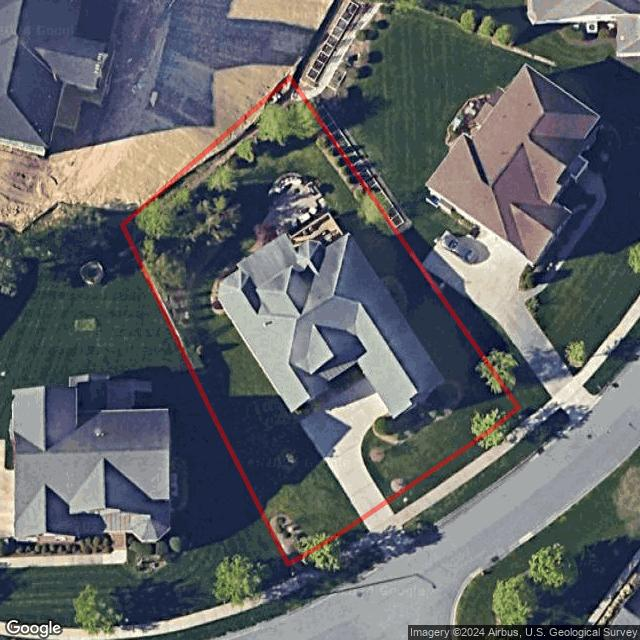Driveway: (123, 80, 397, 376), (290, 369, 391, 518), (288, 518, 370, 577)
Extra-Driveway: (360, 502, 417, 560)
Extra-Lawn: (404, 429, 548, 538), (386, 408, 529, 514), (298, 543, 389, 604)
Extra-Sidewalk: (397, 418, 537, 526), (294, 533, 375, 588)
House: (210, 233, 443, 418)
Lawn: (123, 78, 519, 563)
Other: (215, 171, 343, 284), (374, 381, 461, 445), (270, 516, 306, 556), (378, 276, 409, 319)
